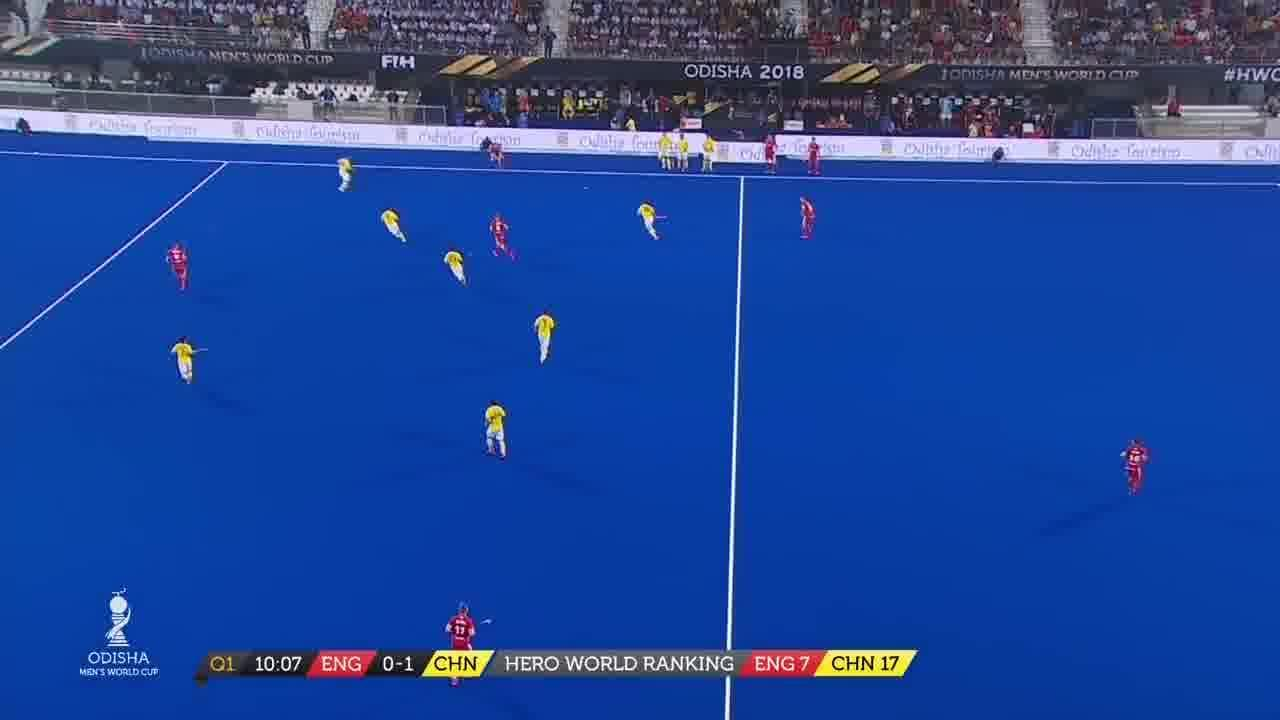ball: (580, 183, 592, 194)
